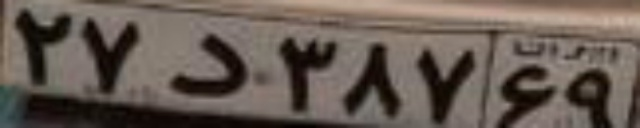2: (12, 9, 73, 86)
3: (277, 35, 336, 114)
6: (492, 62, 557, 127)
7: (412, 46, 479, 124), (80, 16, 140, 94)
8: (340, 43, 403, 119)
9: (564, 68, 616, 127)
dal: (166, 34, 248, 97)
